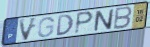B: (112, 5, 134, 31)
D: (56, 14, 75, 38)
G: (36, 16, 55, 39)
N: (93, 8, 115, 32)
P: (73, 10, 95, 36)
V: (18, 16, 39, 42)
